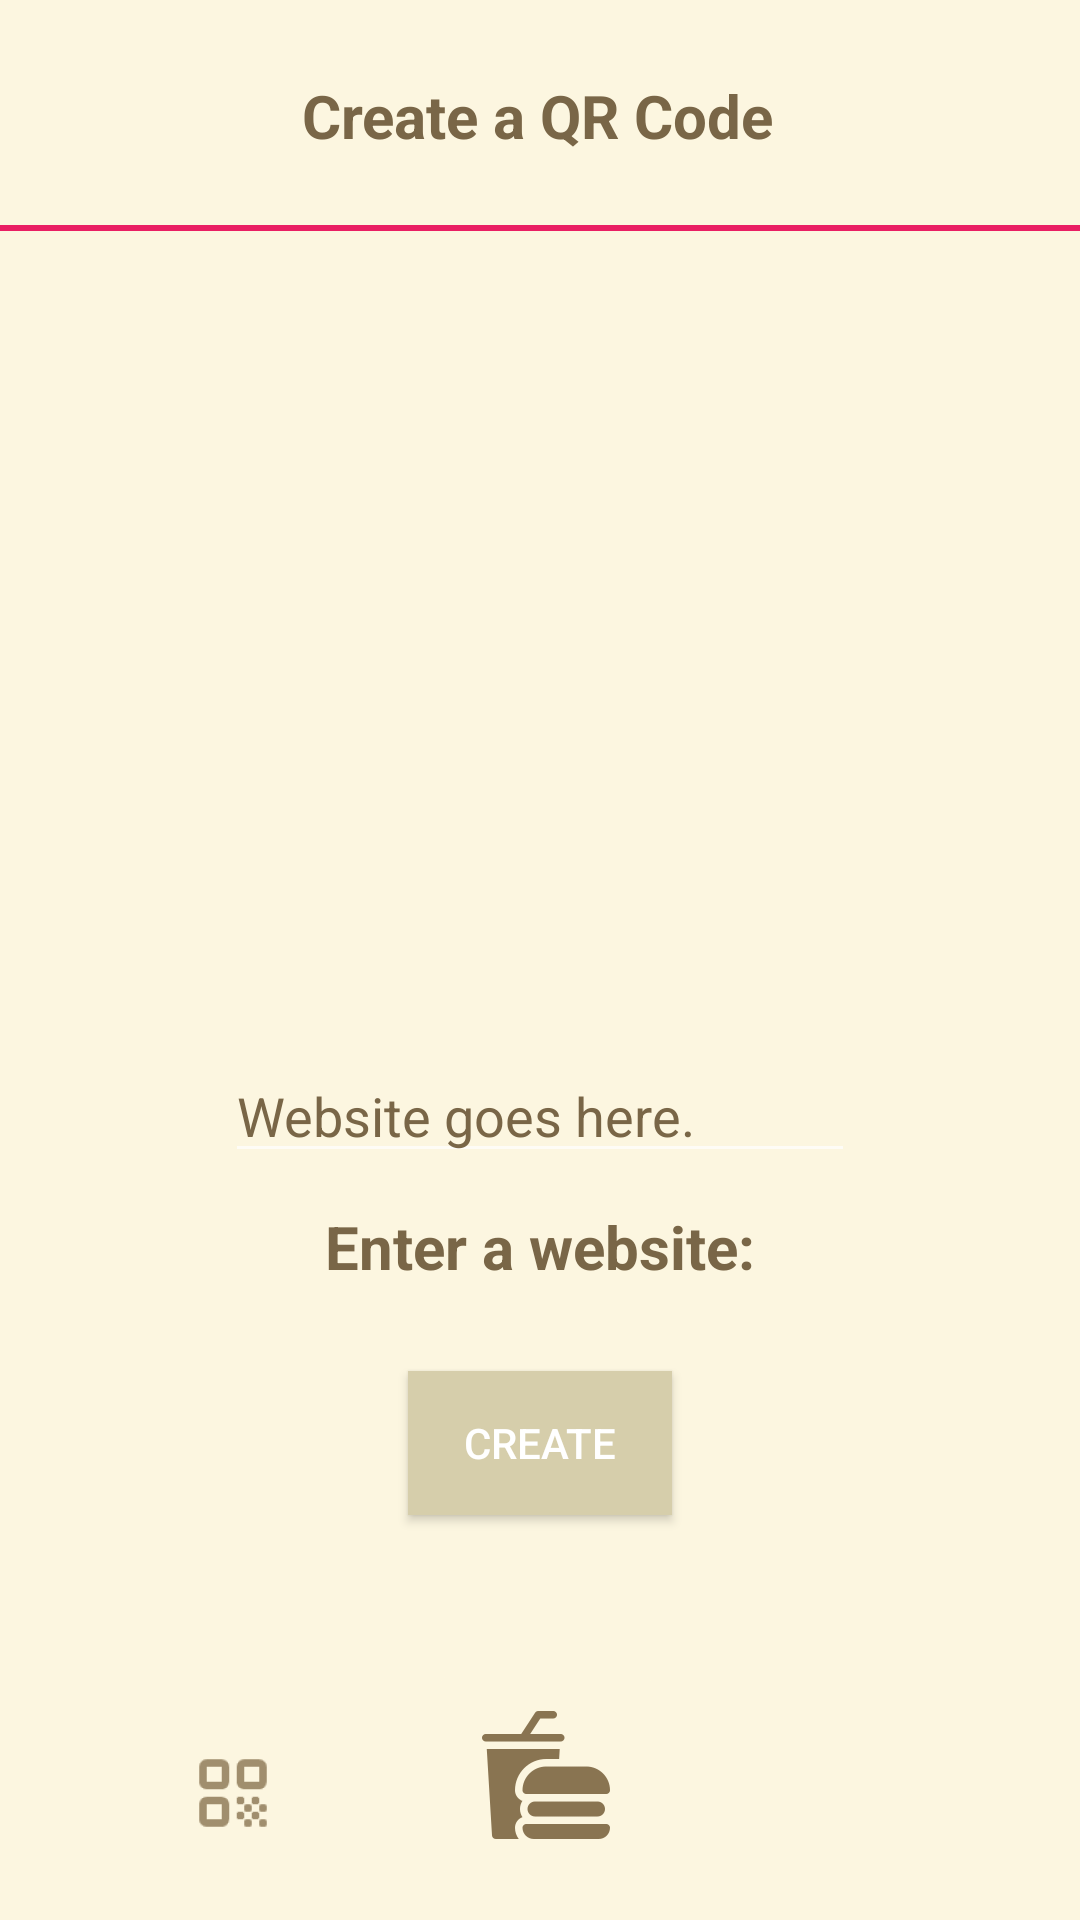

Point at icon controls on the screen. Image size 1080 × 1920, points as point (x, y).
fastfood: point (546, 1775)
